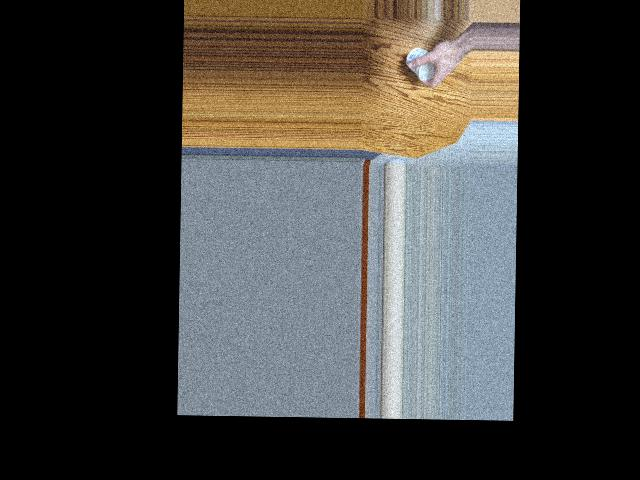cotage: (408, 44, 440, 82)
